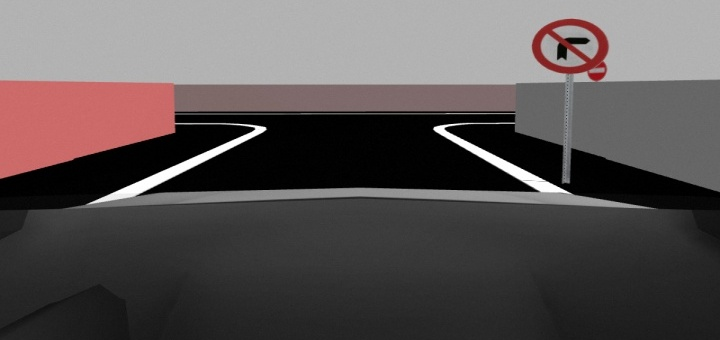saga_donulmez: (530, 14, 615, 78)
